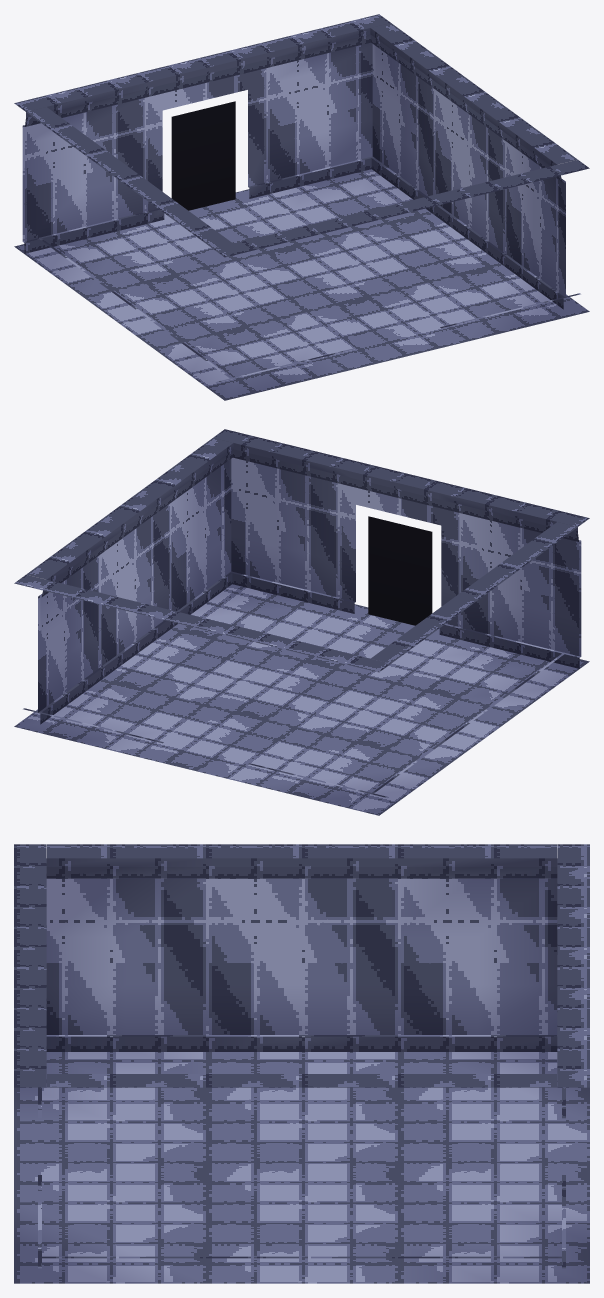
File: cyroom.apartment.glb
3 renders of one model, top to bottom at view 1: azimuth 30°, elevation 25°; view 2: azimuth 150°, elevation 25°; view 3: azimuth 270°, elevation 25°, orthographic. The views are drawn at different scales.
Parts seen in each view (by area): view 1: kit_shell_walls, kit_shell_floor, kit_card_lights; view 2: kit_shell_walls, kit_shell_floor, kit_card_lights; view 3: kit_shell_walls, kit_shell_floor.
Part boxes in pixels (x1,y1,x2,y2): kit_shell_walls: (14, 14, 589, 383); kit_shell_floor: (14, 169, 589, 400); kit_card_lights: (171, 101, 235, 210); kit_shell_walls: (14, 429, 589, 798); kit_shell_floor: (14, 584, 589, 815); kit_card_lights: (368, 516, 432, 625); kit_shell_walls: (14, 844, 589, 1268); kit_shell_floor: (14, 1052, 589, 1283).
Bounding box in the file's own units: 12 × 4.5 × 12.
Materials: 6 (6 with a texture image).
